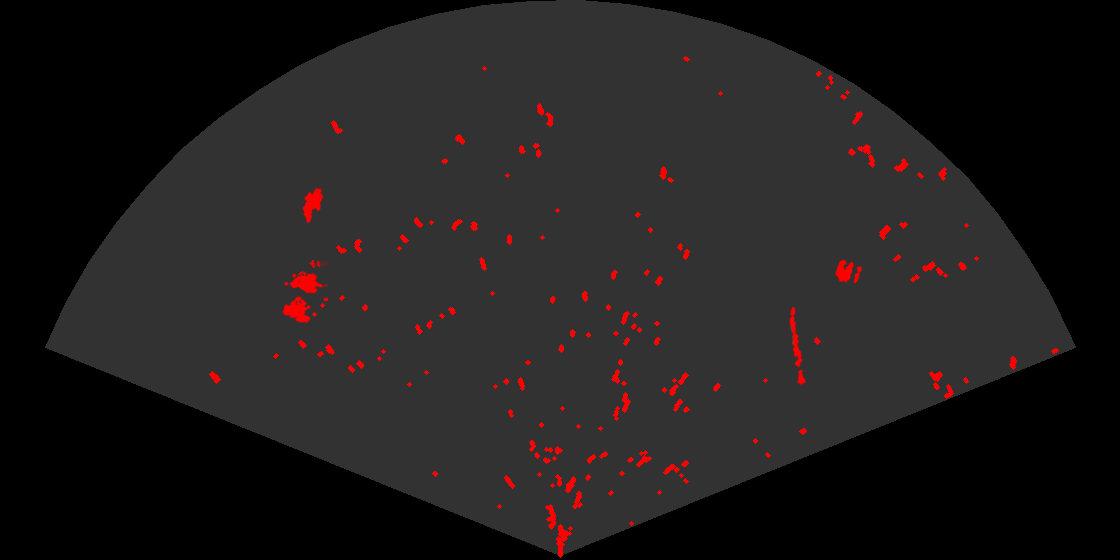AUV: (301, 186, 325, 225)
ball: (834, 257, 864, 285)
cage: (281, 261, 328, 325)
chain: (787, 305, 807, 387)
